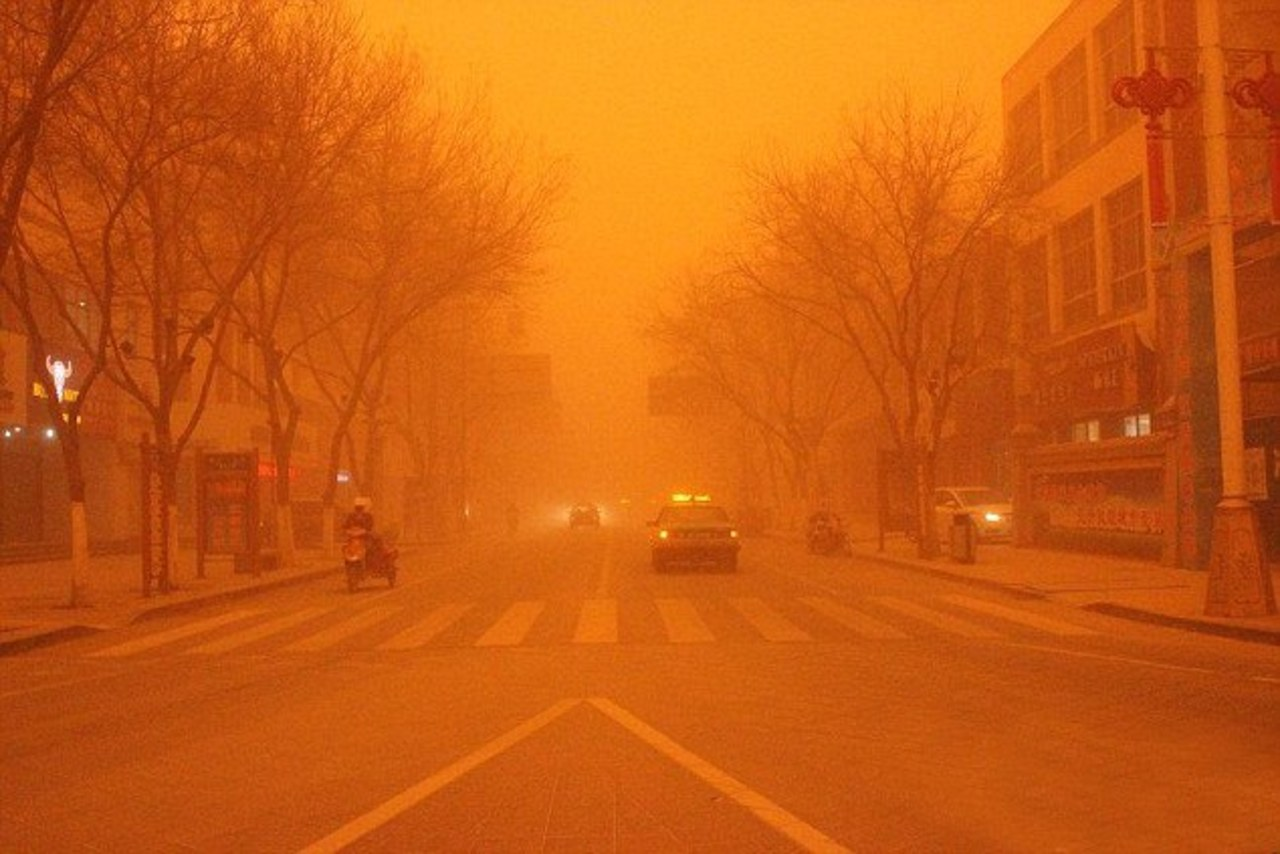car: (647, 499, 741, 574), (925, 485, 1013, 546), (564, 498, 602, 532)
motorcycle: (346, 530, 392, 593)
person: (344, 497, 374, 559)
